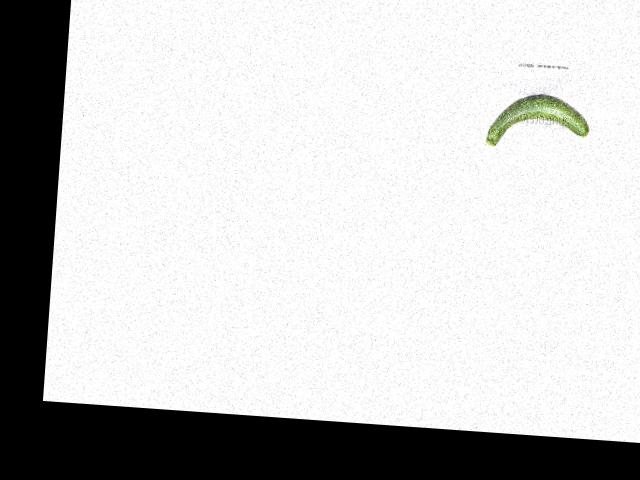cucumber: (485, 91, 590, 153)
